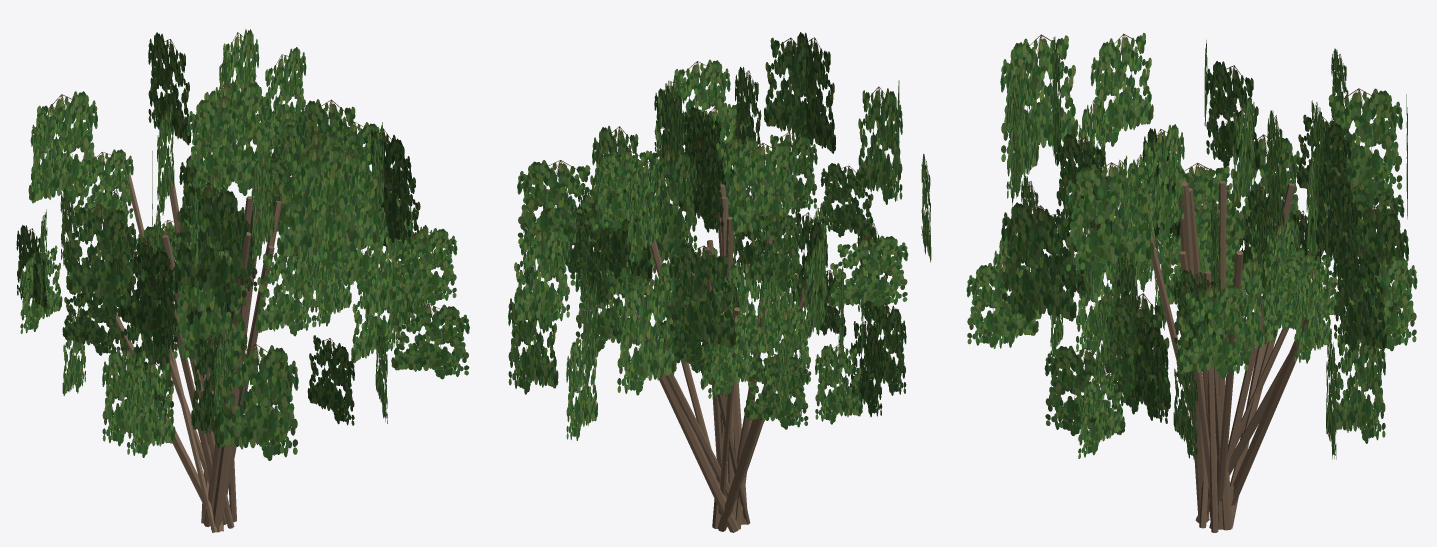
Rendered from strauch_sommer_2.glb.
3 renders of one model, left to right at view 1: azimuth 30°, elevation 25°; view 2: azimuth 150°, elevation 25°; view 3: azimuth 270°, elevation 25°, orthographic. The views are drawn at different scales.
Visible parts, largest first — view 1: strauch_sommer_2_n2, strauch_sommer_2_n1; view 2: strauch_sommer_2_n2, strauch_sommer_2_n1; view 3: strauch_sommer_2_n2, strauch_sommer_2_n1.
Boxes of the visible parts, left/top/right/bottom form: strauch_sommer_2_n2: left=16, top=29, right=469, bottom=460; strauch_sommer_2_n1: left=108, top=171, right=282, bottom=532; strauch_sommer_2_n2: left=508, top=32, right=931, bottom=440; strauch_sommer_2_n1: left=636, top=184, right=808, bottom=532; strauch_sommer_2_n2: left=966, top=33, right=1417, bottom=460; strauch_sommer_2_n1: left=1141, top=180, right=1353, bottom=532.
Bounding box in the file's own units: 2.02 × 2.3 × 2.02.
Materials: 1 (1 with a texture image).
